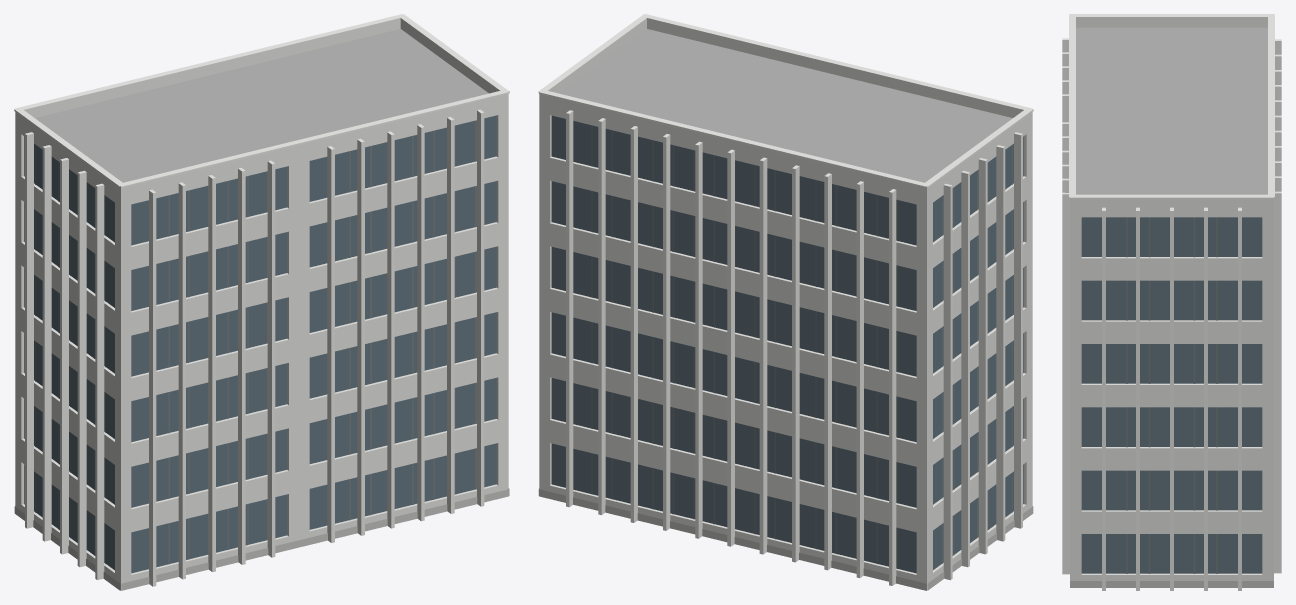
The picture shows the model from 3 angles, left to right: view 1: azimuth 30°, elevation 25°; view 2: azimuth 150°, elevation 25°; view 3: azimuth 270°, elevation 25°; orthographic projection. The views are drawn at different scales.
Visible parts, largest first — view 1: thomasMore__glass, thomasMore__wall, thomasMore__trim, thomasMore__roof, thomasMore__parapet, thomasMore__frame, thomasMore__base; view 2: thomasMore__glass, thomasMore__wall, thomasMore__trim, thomasMore__roof, thomasMore__parapet, thomasMore__frame, thomasMore__base; view 3: thomasMore__glass, thomasMore__roof, thomasMore__wall, thomasMore__trim, thomasMore__parapet, thomasMore__frame, thomasMore__base.
Boxes of the visible parts, x1,y1,x2,y2 form: thomasMore__glass: [24, 115, 496, 573]; thomasMore__wall: [15, 102, 508, 590]; thomasMore__trim: [14, 14, 509, 586]; thomasMore__roof: [35, 29, 488, 182]; thomasMore__parapet: [15, 18, 508, 196]; thomasMore__frame: [35, 120, 476, 564]; thomasMore__base: [14, 488, 509, 590]; thomasMore__glass: [551, 115, 1023, 573]; thomasMore__wall: [539, 102, 1032, 590]; thomasMore__trim: [538, 14, 1033, 585]; thomasMore__roof: [559, 29, 1012, 182]; thomasMore__parapet: [539, 18, 1032, 196]; thomasMore__frame: [591, 125, 1012, 568]; thomasMore__base: [538, 488, 1033, 590]; thomasMore__glass: [1081, 217, 1262, 573]; thomasMore__roof: [1076, 27, 1267, 194]; thomasMore__wall: [1070, 207, 1273, 580]; thomasMore__trim: [1062, 14, 1281, 590]; thomasMore__parapet: [1070, 17, 1273, 207]; thomasMore__frame: [1126, 217, 1217, 573]; thomasMore__base: [1070, 581, 1273, 587].
Size of the model in its own units: 23.07 by 22.2 by 11.31.
